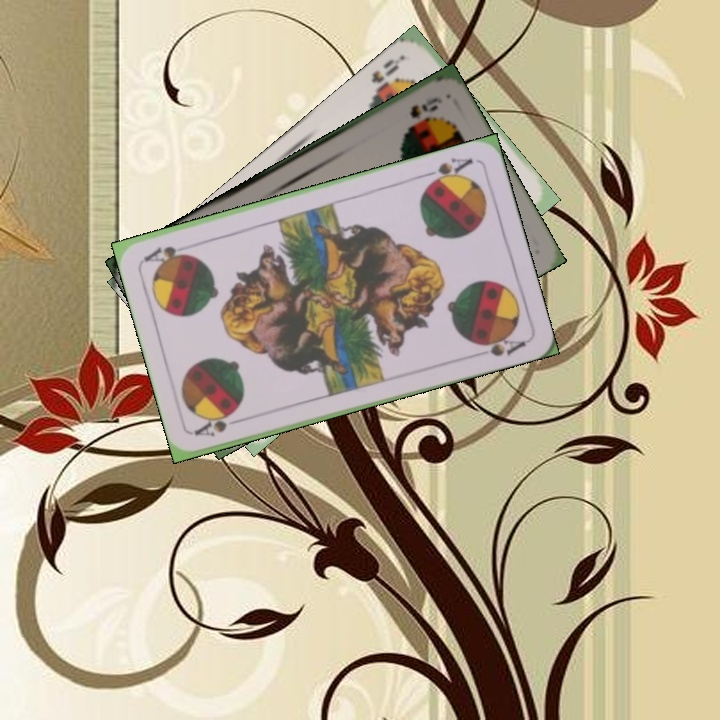SA: (419, 153, 476, 189), (190, 409, 249, 439)
SO: (366, 51, 407, 104), (405, 93, 444, 121)
